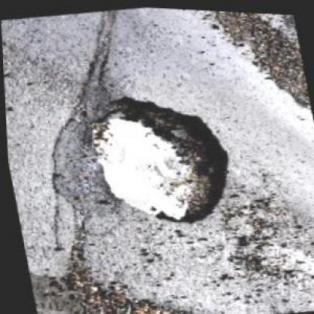Hueco: (81, 79, 244, 239)
